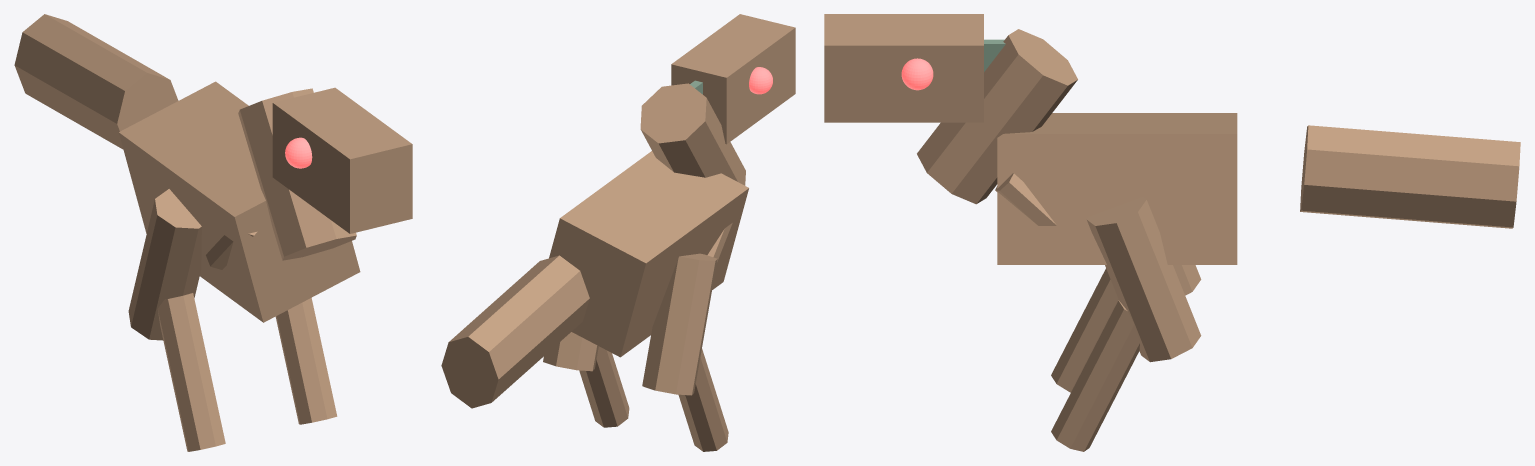
Rendered from RaptorEnemy.glb.
3 renders of one model, left to right at view 1: azimuth 30°, elevation 25°; view 2: azimuth 150°, elevation 25°; view 3: azimuth 270°, elevation 25°, orthographic. The views are drawn at different scales.
Visible parts, largest first — view 1: RaptorBody, RaptorEyes; view 2: RaptorBody, RaptorEyes; view 3: RaptorBody, RaptorEyes.
Boxes of the visible parts, bbox=[...] form: RaptorBody: bbox=[14, 14, 412, 451]; RaptorEyes: bbox=[285, 137, 312, 168]; RaptorBody: bbox=[441, 14, 795, 451]; RaptorEyes: bbox=[749, 67, 772, 94]; RaptorBody: bbox=[824, 14, 1520, 451]; RaptorEyes: bbox=[901, 58, 933, 90].
Bounding box in the file's own units: 0.74 × 1.62 × 2.61.
